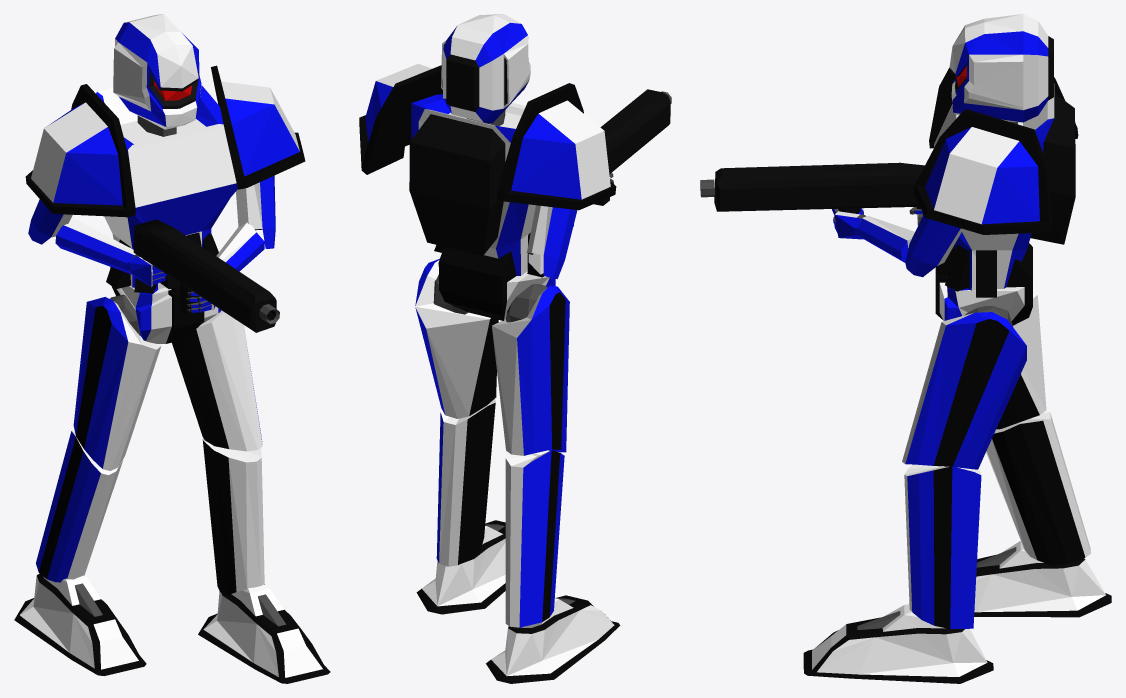
The model's file is robot_animation_000003.obj.
3 renders of one model, left to right at view 1: azimuth 30°, elevation 25°; view 2: azimuth 150°, elevation 25°; view 3: azimuth 270°, elevation 25°, orthographic. The views are drawn at different scales.
Parts seen in each view (by area): view 1: Chest_plate_Cube.004, Cube.002_Cube.059, R_Thigh_Cube.005, R_Thigh.002_Cube.027, Head_base_Cube.022, R_Shin.002_Cube.029, R_Foot_Cube, R_Foot.002_Cube.035, Cube_Cube.001, R_Shin_Cube.007, Cube_Cube.021, Pelvis_Cube.006 (+5 smaller); view 2: Chest_plate_Cube.004, Cube.002_Cube.059, R_Thigh_Cube.005, R_Shin_Cube.007, Head_base_Cube.022, R_Shin.002_Cube.029, R_Thigh.002_Cube.027, R_Foot_Cube, Cube_Cube.021, Pelvis_Cube.006, R_Foot.002_Cube.035, Cube_Cube.001 (+2 smaller); view 3: Cube_Cube.021, R_Thigh.002_Cube.027, R_Shin.002_Cube.029, R_Foot.002_Cube.035, R_Shin_Cube.007, Head_base_Cube.022, Cube_Cube.001, Chest_plate_Cube.004, R_Foot_Cube, Pelvis_Cube.006, R_Thigh_Cube.005, L_Arm_Cube.014 (+3 smaller).
Part boxes in pixels (bbox=[...]): Chest_plate_Cube.004: bbox=[96, 85, 237, 293]; Cube.002_Cube.059: bbox=[25, 84, 135, 217]; R_Thigh_Cube.005: bbox=[73, 297, 161, 470]; R_Thigh.002_Cube.027: bbox=[172, 310, 262, 451]; Head_base_Cube.022: bbox=[113, 14, 201, 129]; R_Shin.002_Cube.029: bbox=[202, 438, 264, 595]; R_Foot_Cube: bbox=[14, 573, 146, 675]; R_Foot.002_Cube.035: bbox=[198, 584, 330, 683]; Cube_Cube.001: bbox=[133, 219, 279, 332]; R_Shin_Cube.007: bbox=[36, 431, 123, 582]; Cube_Cube.021: bbox=[211, 65, 305, 189]; Pelvis_Cube.006: bbox=[110, 267, 221, 343]; Chest_plate_Cube.004: bbox=[409, 94, 543, 277]; Cube.002_Cube.059: bbox=[496, 83, 616, 210]; R_Thigh_Cube.005: bbox=[492, 285, 569, 455]; R_Shin_Cube.007: bbox=[505, 450, 564, 627]; Head_base_Cube.022: bbox=[441, 14, 530, 123]; R_Shin.002_Cube.029: bbox=[436, 399, 495, 566]; R_Thigh.002_Cube.027: bbox=[415, 258, 498, 418]; R_Foot_Cube: bbox=[486, 595, 620, 683]; Cube_Cube.021: bbox=[359, 63, 442, 174]; Pelvis_Cube.006: bbox=[438, 246, 555, 320]; R_Foot.002_Cube.035: bbox=[416, 520, 505, 614]; Cube_Cube.001: bbox=[593, 89, 671, 205]; Cube_Cube.021: bbox=[913, 109, 1052, 234]; R_Thigh.002_Cube.027: bbox=[902, 312, 1026, 469]; R_Shin.002_Cube.029: bbox=[904, 464, 981, 628]; R_Foot.002_Cube.035: bbox=[803, 604, 993, 683]; R_Shin_Cube.007: bbox=[986, 408, 1090, 565]; Head_base_Cube.022: bbox=[949, 14, 1053, 122]; Cube_Cube.001: bbox=[700, 162, 924, 215]; Chest_plate_Cube.004: bbox=[934, 83, 1075, 297]; R_Foot_Cube: bbox=[974, 541, 1111, 617]; Pelvis_Cube.006: bbox=[935, 243, 1032, 325]; R_Thigh_Cube.005: bbox=[996, 285, 1046, 429]; L_Arm_Cube.014: bbox=[905, 214, 962, 277].
Size of the model in its own units: 1.32 by 3.03 by 1.83.
